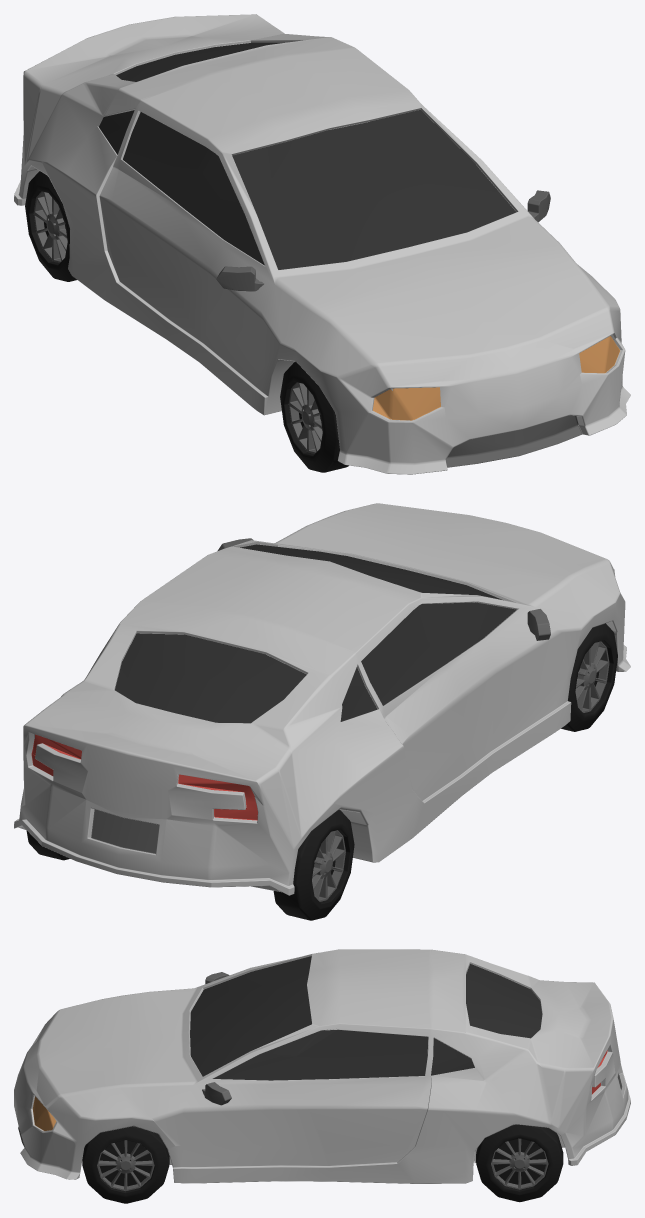
Rendered from sport.glb.
3 renders of one model, top to bottom at view 1: azimuth 30°, elevation 25°; view 2: azimuth 150°, elevation 25°; view 3: azimuth 270°, elevation 25°, orthographic. The views are drawn at different scales.
Visible parts, largest first — view 1: SportsCar2_Cube.006, SportsCar2_FrontRightWheel_Cylinder.018, SportsCar2_BackWheels_Cylinder.002; view 2: SportsCar2_Cube.006, SportsCar2_BackWheels_Cylinder.002, SportsCar2_FrontRightWheel_Cylinder.018; view 3: SportsCar2_Cube.006, SportsCar2_BackWheels_Cylinder.002, SportsCar2_FrontLeftWheel_Cylinder.017.
Part boxes in pixels (x1,y1,x2,y2): SportsCar2_Cube.006: (14, 14, 630, 474); SportsCar2_FrontRightWheel_Cylinder.018: (280, 361, 348, 472); SportsCar2_BackWheels_Cylinder.002: (25, 171, 76, 281); SportsCar2_Cube.006: (14, 503, 630, 895); SportsCar2_BackWheels_Cylinder.002: (26, 809, 354, 920); SportsCar2_FrontRightWheel_Cylinder.018: (561, 623, 617, 731); SportsCar2_Cube.006: (14, 949, 630, 1183); SportsCar2_BackWheels_Cylinder.002: (476, 1124, 563, 1202); SportsCar2_FrontLeftWheel_Cylinder.017: (82, 1126, 169, 1203).
Bounding box in the file's own units: 1.87 × 1.2 × 3.93.
